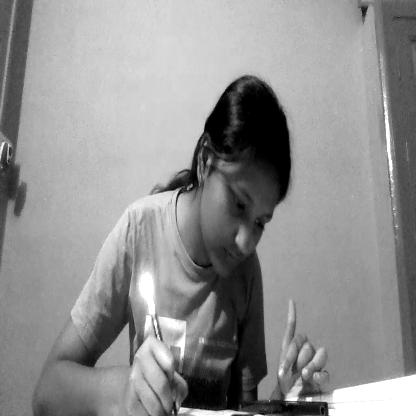Distracted: (195, 122, 284, 291)
